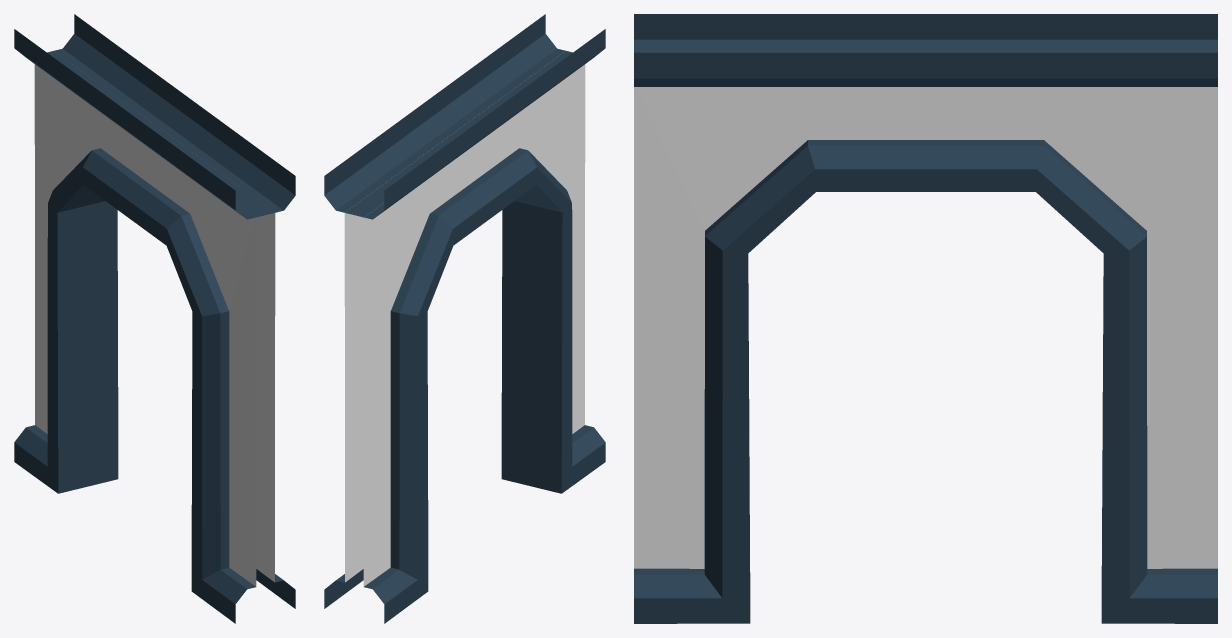
Rendered from SM_DoorModule.fbx.
3 views of the same model, side by side, from view 1: azimuth 30°, elevation 25°; view 2: azimuth 150°, elevation 25°; view 3: azimuth 270°, elevation 25° (orthographic). The views are drawn at different scales.
Parts seen in each view (by area): view 1: Cube.009; view 2: Cube.009; view 3: Cube.009.
Boxes of the visible parts, bbox=[...] form: Cube.009: bbox=[14, 14, 295, 623]; Cube.009: bbox=[324, 14, 605, 623]; Cube.009: bbox=[634, 14, 1217, 623].
Size of the model in its own units: 200 by 31.37 by 216.
